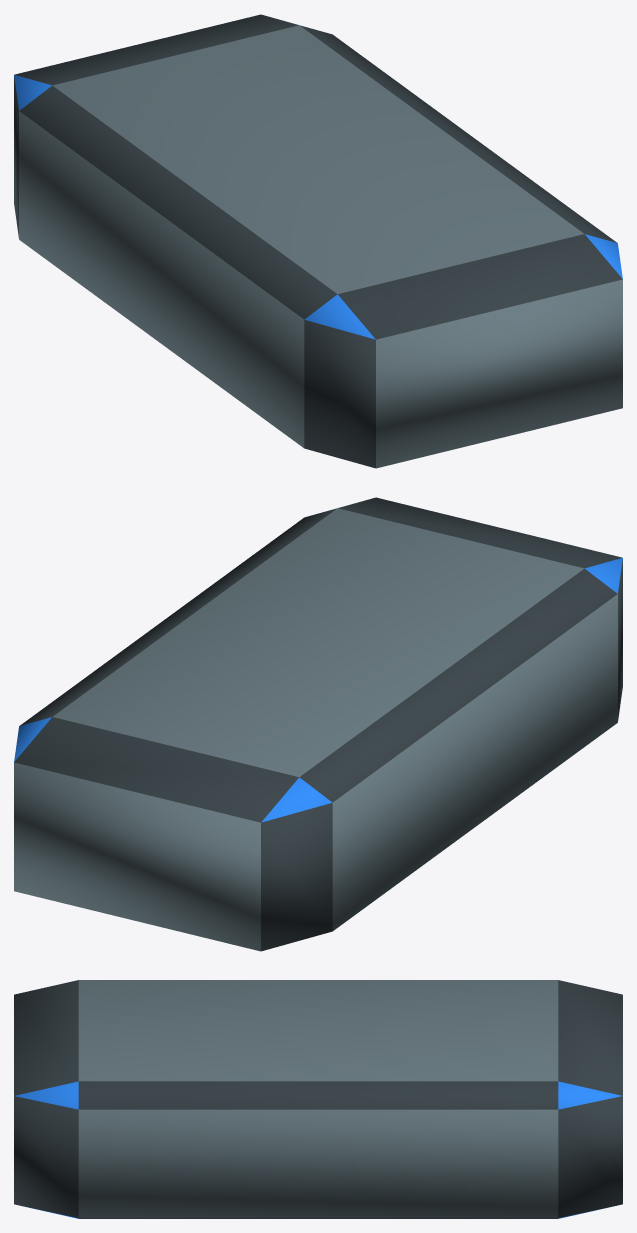
The model's file is sci-fi-box.glb.
The picture shows the model from 3 angles, top to bottom: view 1: azimuth 30°, elevation 25°; view 2: azimuth 150°, elevation 25°; view 3: azimuth 270°, elevation 25°; orthographic projection. The views are drawn at different scales.
Parts seen in each view (by area): view 1: Cube; view 2: Cube; view 3: Cube.
Boxes of the visible parts, left/top/right/bottom form: Cube: left=14, top=14, right=622, bottom=468; Cube: left=14, top=497, right=622, bottom=951; Cube: left=14, top=980, right=622, bottom=1218.
Size of the model in its own units: 2 by 0.9968 by 4.
Materials: 1 (1 with a texture image).
